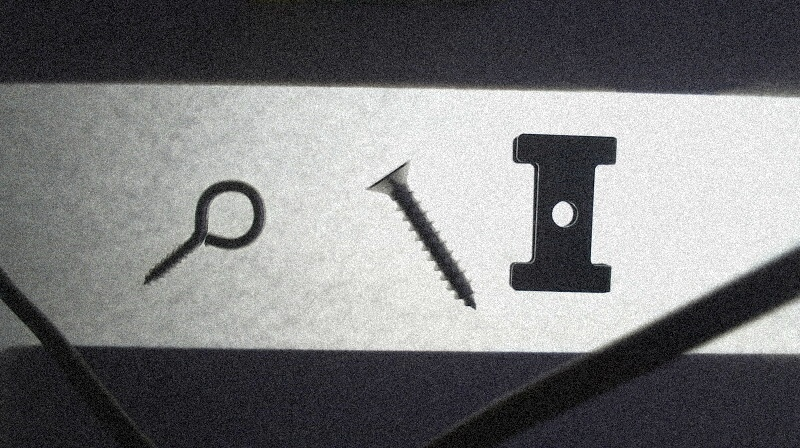O001: (139, 179, 267, 289)
O002: (508, 133, 620, 293)
S001: (366, 156, 476, 310)
